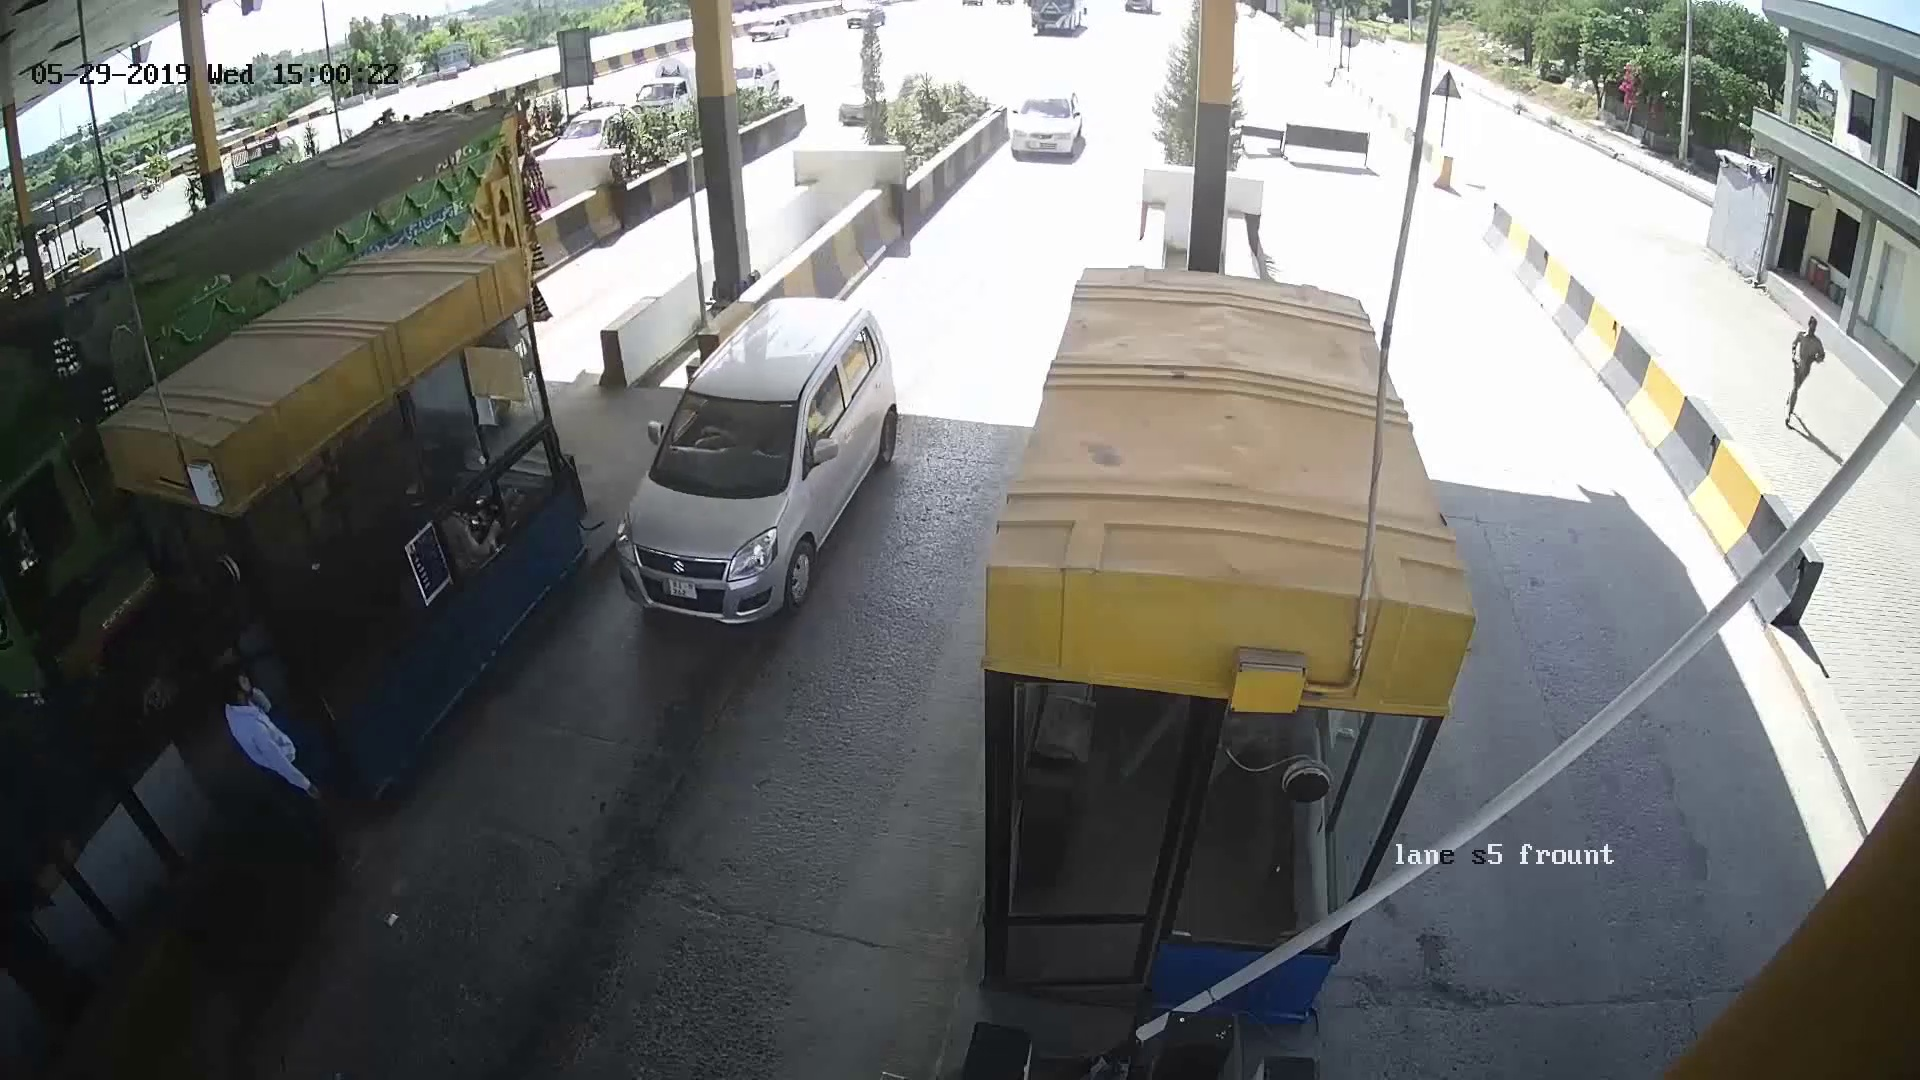car: (625, 313, 899, 616), (1006, 74, 1096, 164)
